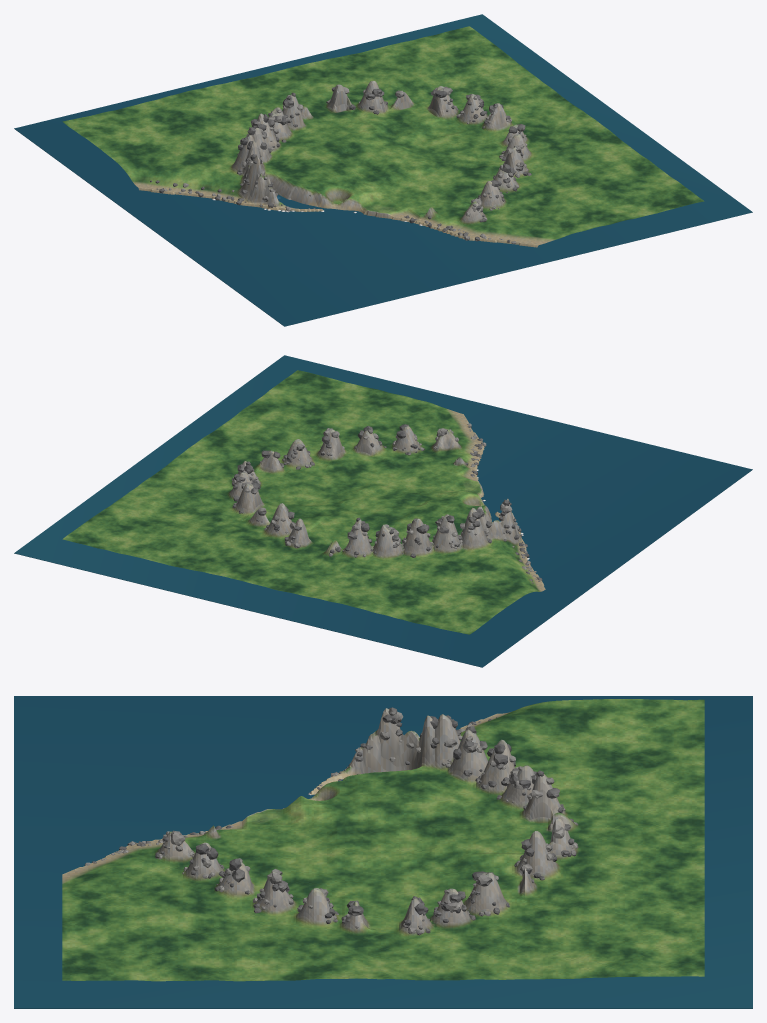
The model's file is Terrain_P3.fbx.
3 views of the same model, one above another, from view 1: azimuth 30°, elevation 25°; view 2: azimuth 150°, elevation 25°; view 3: azimuth 270°, elevation 25° (orthographic). The views are drawn at different scales.
Visible parts, largest first — view 1: Ground, Sea; view 2: Ground, Sea; view 3: Ground, Sea.
Boxes of the visible parts, box(x1,y1,x2,y2) form: Ground: box(62, 26, 704, 247); Sea: box(14, 14, 752, 326); Ground: box(62, 370, 545, 634); Sea: box(14, 355, 752, 667); Ground: box(62, 699, 704, 981); Sea: box(14, 696, 752, 1008).
Bounding box in the file's own units: 73600 × 8947 × 73600.
